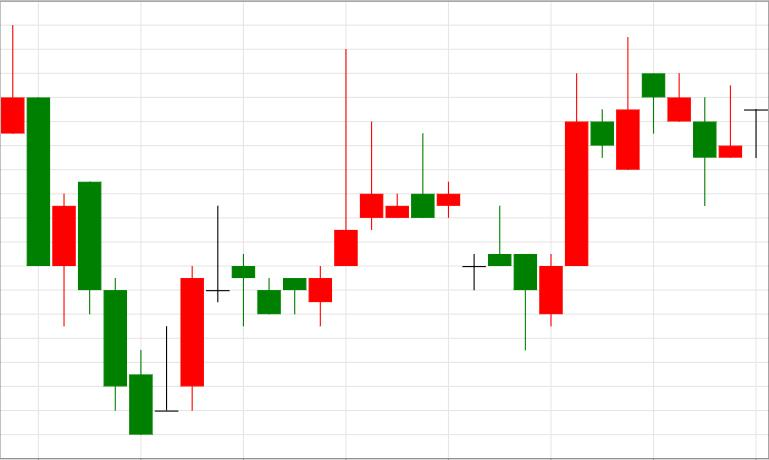hammer_rise: (437, 181, 537, 350)
shooting_star_fall: (258, 50, 383, 326)
